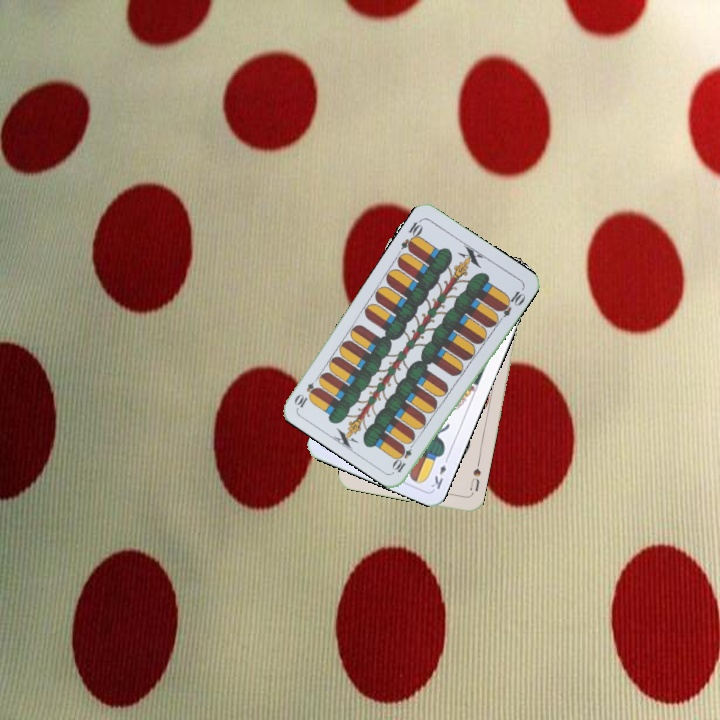E10: (397, 215, 426, 254), (389, 437, 418, 475)
EK: (427, 452, 452, 492)
SU: (465, 457, 484, 498)
